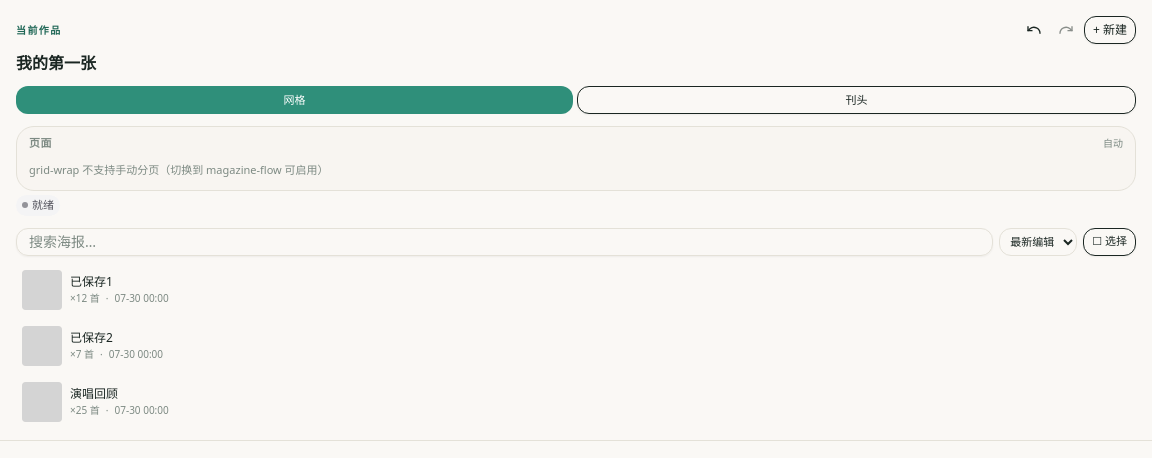
Test case: PostersSidebar - 搜索过滤 › 清空搜索恢复显示全部
Type "演唱" into the field with test id "poster-search-input". click: (505, 242)
box: [16, 228, 993, 256]
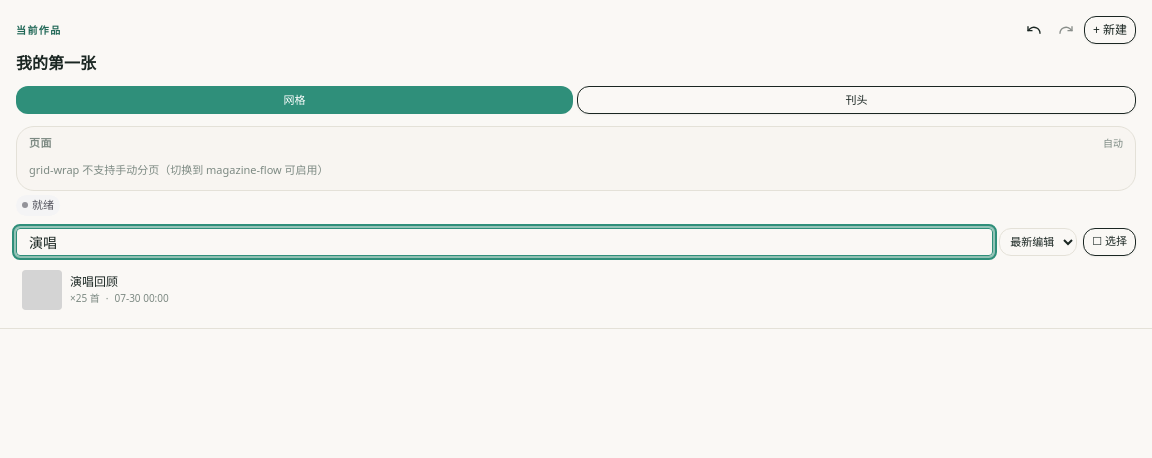
Now the button "已保存1" is gone
Clear the field with test id "poster-search-input". click: (505, 242)
box: [16, 228, 993, 256]
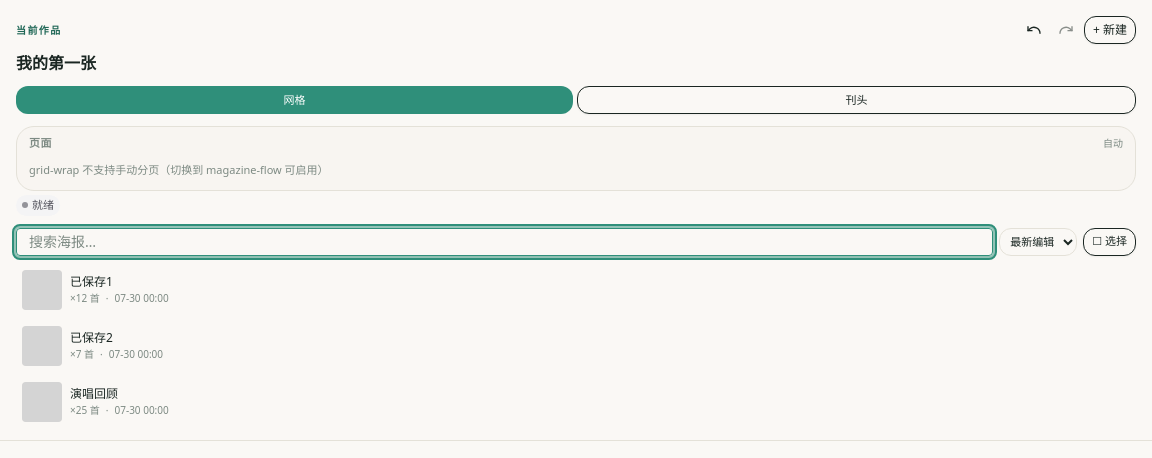
Now the text "已保存1" is shown, box [70, 273, 113, 290]
